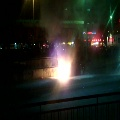fire: (55, 58, 71, 80)
